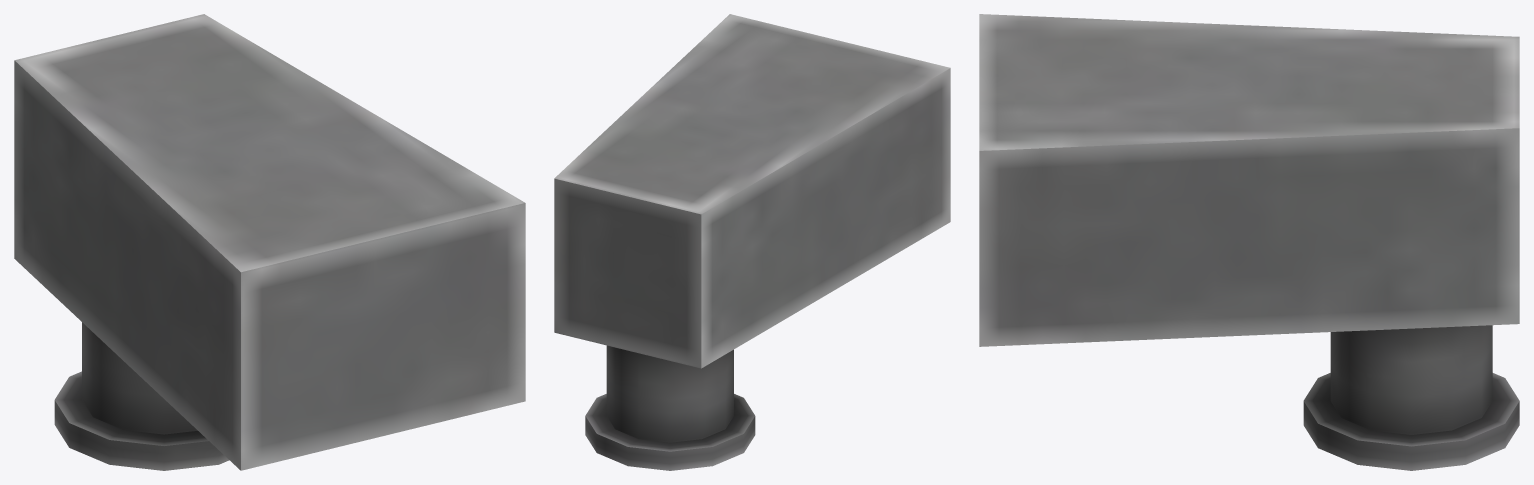
File: sp_rcs_srf_1.obj
3 views of the same model, side by side, from view 1: azimuth 30°, elevation 25°; view 2: azimuth 150°, elevation 25°; view 3: azimuth 270°, elevation 25° (orthographic). The views are drawn at different scales.
Parts seen in each view (by area): view 1: mesh1; view 2: mesh1; view 3: mesh1.
Boxes of the visible parts, x1,y1,x2,y2 form: mesh1: (14, 14, 525, 470); mesh1: (554, 14, 950, 470); mesh1: (979, 14, 1519, 470).
Size of the model in its own units: 0.075 by 0.0875 by 0.125.
Materials: 1 (1 with a texture image).
